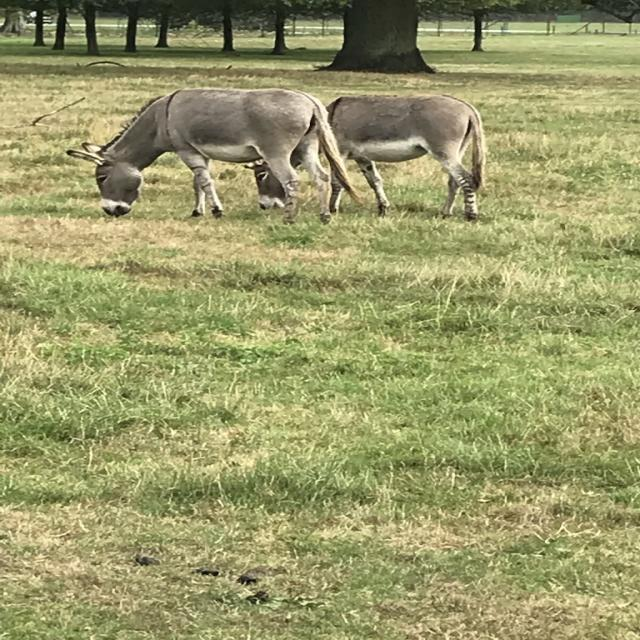Donkey: (61, 84, 366, 220), (237, 91, 486, 221)
